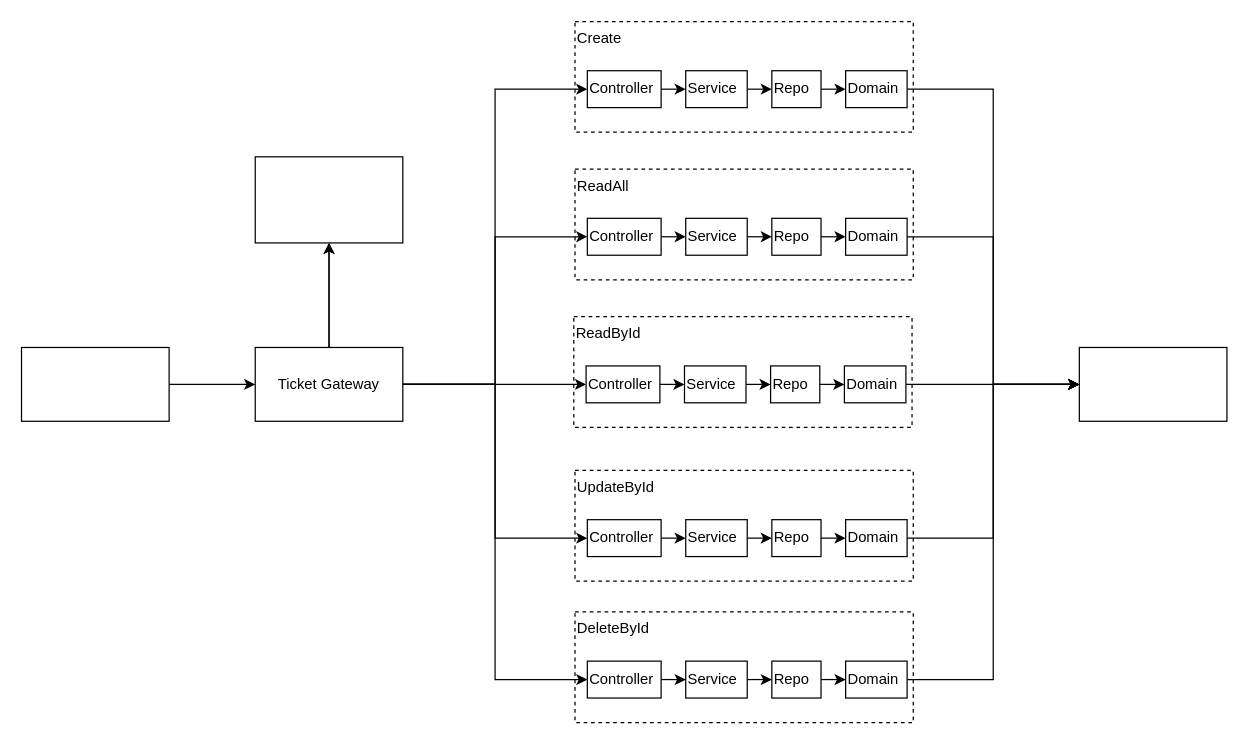
The diagram is 1248 pixels wide and 744 high, and some of its shapes have lost their labels. The centre of each missing label's shape, as x and y in pixels:
Database: point (1152, 383)
Eureka Service Registry: point (328, 199)
Frontend: point (94, 383)
